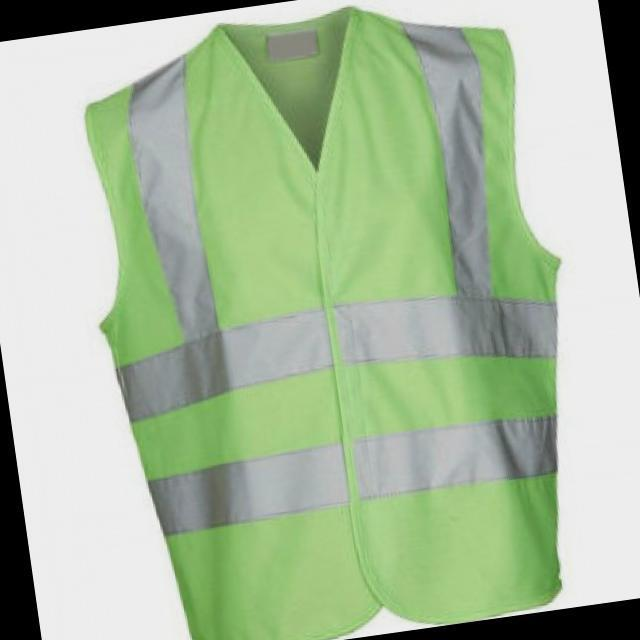vest: (54, 0, 604, 640)
